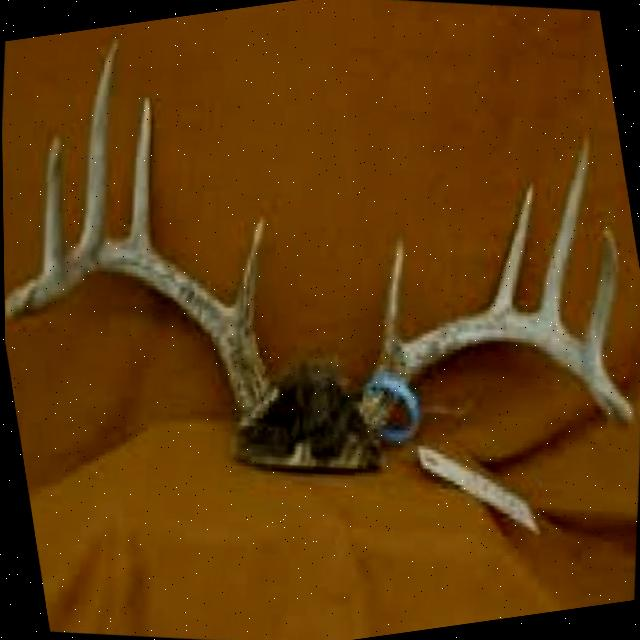L-F: (3, 238, 278, 429)
L-G1: (231, 213, 265, 326)
L-G2: (130, 96, 156, 242)
L-G3: (81, 35, 120, 240)
L-G4: (41, 133, 63, 274)
R-F: (349, 307, 633, 455)
R-G1: (378, 230, 406, 356)
R-G2: (487, 181, 533, 309)
R-G3: (535, 130, 592, 322)
R-G4: (578, 223, 619, 365)
